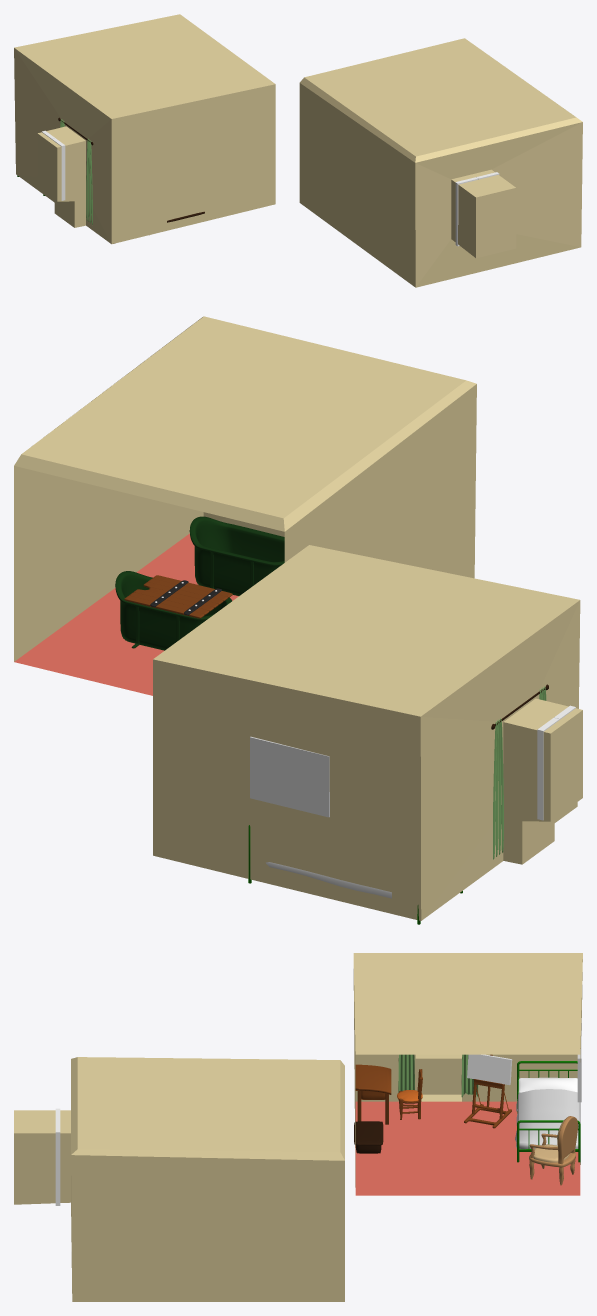
File: saint-paul de mausole Bedroom.fbx
3 views of the same model, one above another, from view 1: azimuth 30°, elevation 25°; view 2: azimuth 150°, elevation 25°; view 3: azimuth 270°, elevation 25° (orthographic). The views are drawn at different scales.
Visible parts, largest first — view 1: Cube.037, Cube, Plane; view 2: Cube, Cube.037, Cube.001, Cylinder.010, Cube.019, Cylinder.009, Cube.051, Plane.001, Plane.002; view 3: Cube.037, Cube, Cube.036, Plane.002, Cube.014, Cube.017, Cube.020, Cube.031, Circle, Plane, Cylinder.003, Cube.040.
Part boxes in pixels (box(x1,y1,x2,y2)): Cube.037: box(299, 38, 582, 287); Cube: box(14, 14, 275, 244); Plane: box(86, 139, 92, 224); Cube: box(153, 545, 582, 920); Cube.037: box(14, 316, 476, 661); Cube.001: box(14, 533, 238, 695); Cylinder.010: box(189, 516, 284, 595); Cube.019: box(250, 736, 329, 817); Cylinder.009: box(115, 571, 231, 650); Cube.051: box(124, 575, 232, 618); Plane.001: box(493, 718, 503, 859); Plane.002: box(266, 862, 391, 898); Cube.037: box(14, 1057, 344, 1301); Cube: box(353, 953, 582, 1187); Cube.036: box(355, 1101, 580, 1195); Plane.002: box(515, 1089, 580, 1149); Cube.014: box(467, 1054, 512, 1085); Cube.017: box(355, 1064, 391, 1094); Cube.020: box(518, 1077, 577, 1092); Cube.031: box(354, 1121, 383, 1145); Circle: box(558, 1116, 577, 1164); Plane: box(398, 1054, 414, 1092); Cylinder.003: box(517, 1120, 580, 1164); Cube.040: box(55, 1120, 60, 1205).
Size of the model in its own units: 6445 by 2134 by 7128.
